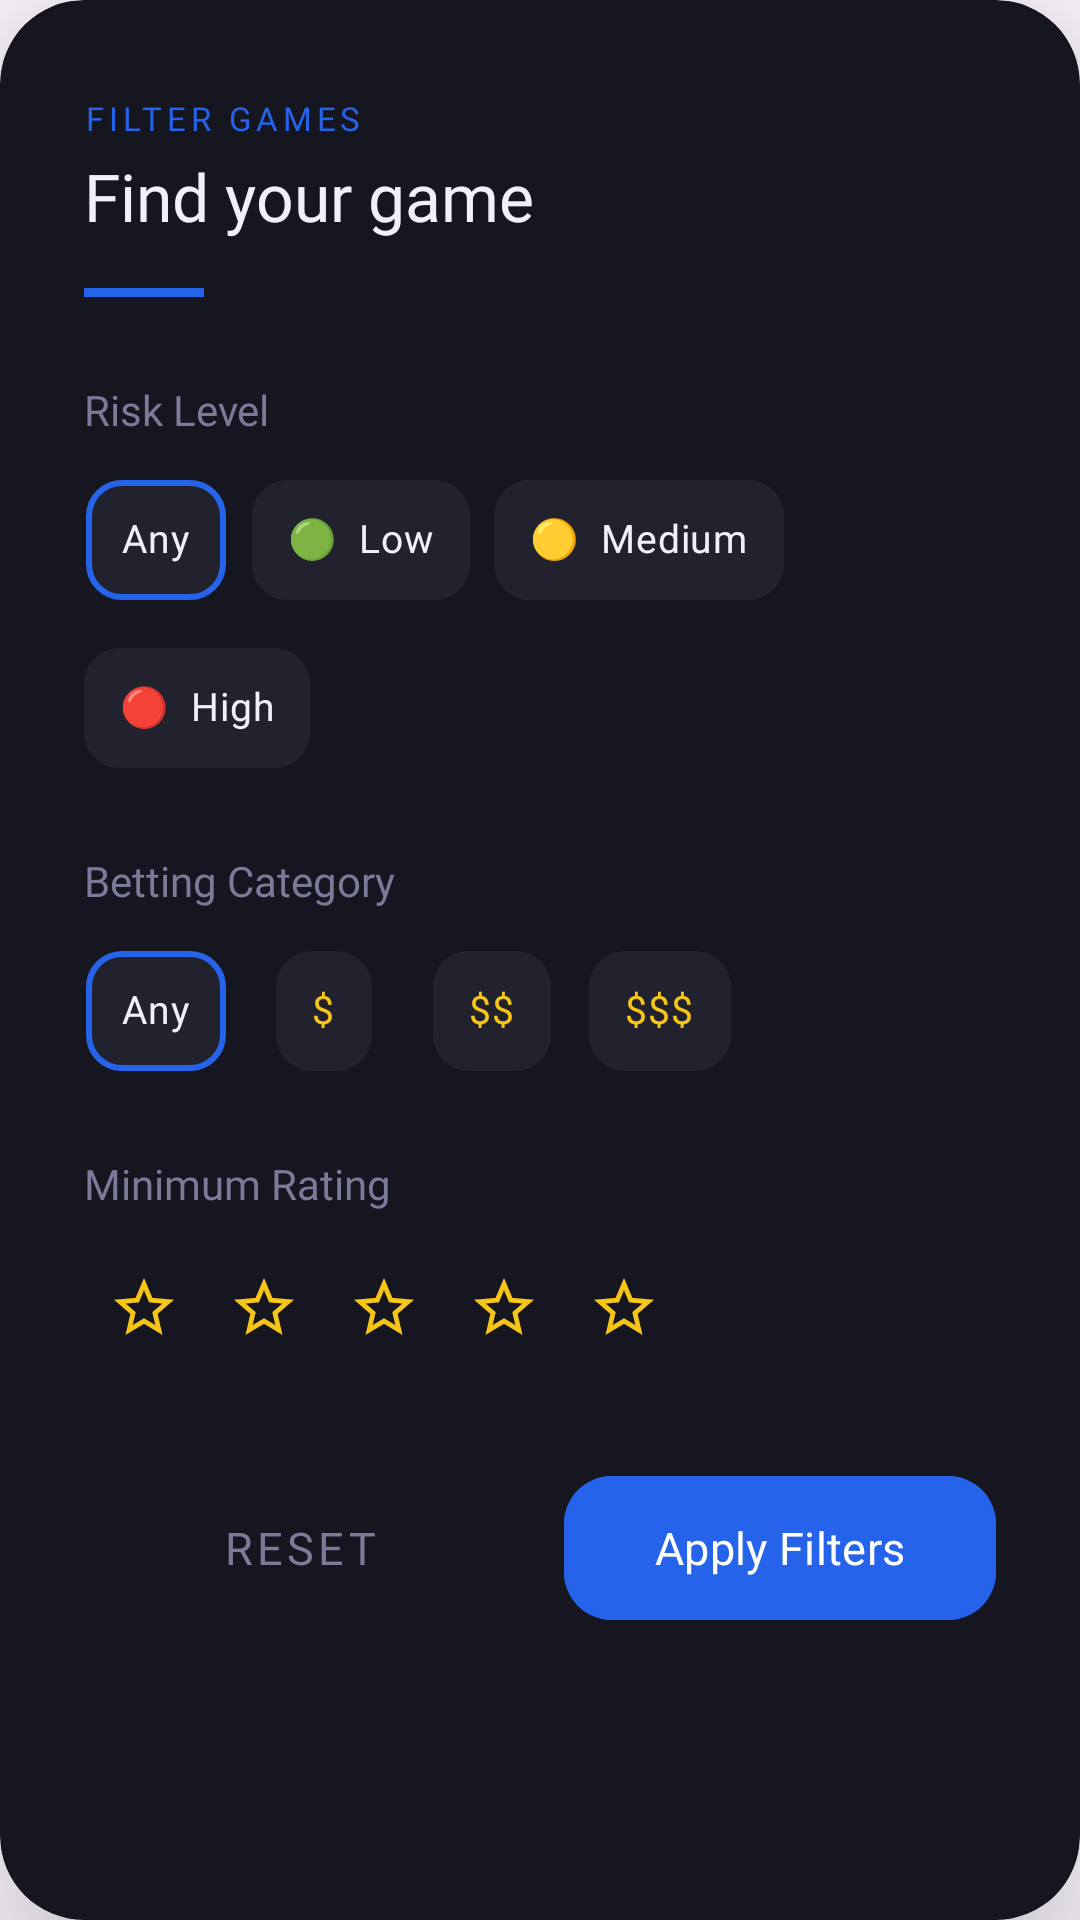

Locate icon controls on the screen. Image size 1080px x 1920px, boxes as BBox(x1, y1, x2, y2).
1 star: BBox(114, 1278, 174, 1335)
2 stars: BBox(234, 1278, 294, 1335)
3 stars: BBox(354, 1278, 414, 1335)
4 stars: BBox(474, 1278, 534, 1335)
5 stars: BBox(594, 1278, 654, 1335)
